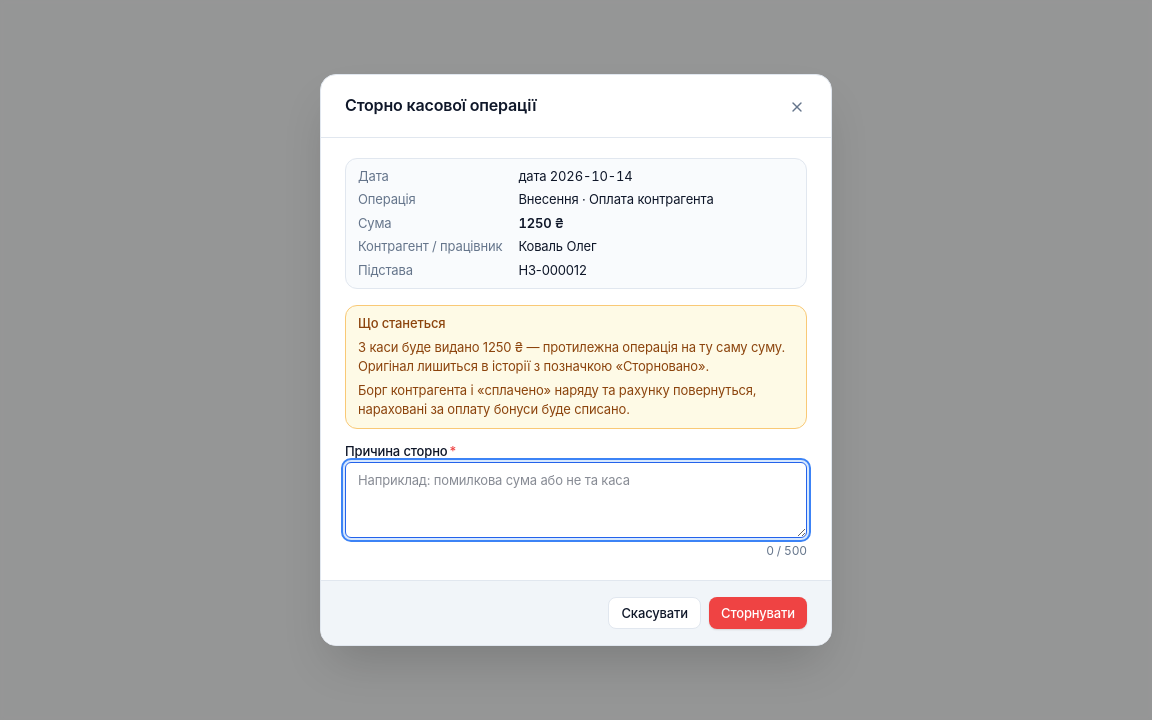
Test: CashReversalModal › причина › лічильник показує межу зі спільної схеми
Type "помилка" into the text box labelled "Причина сторно*" at (576, 500), box [345,462,807,538]
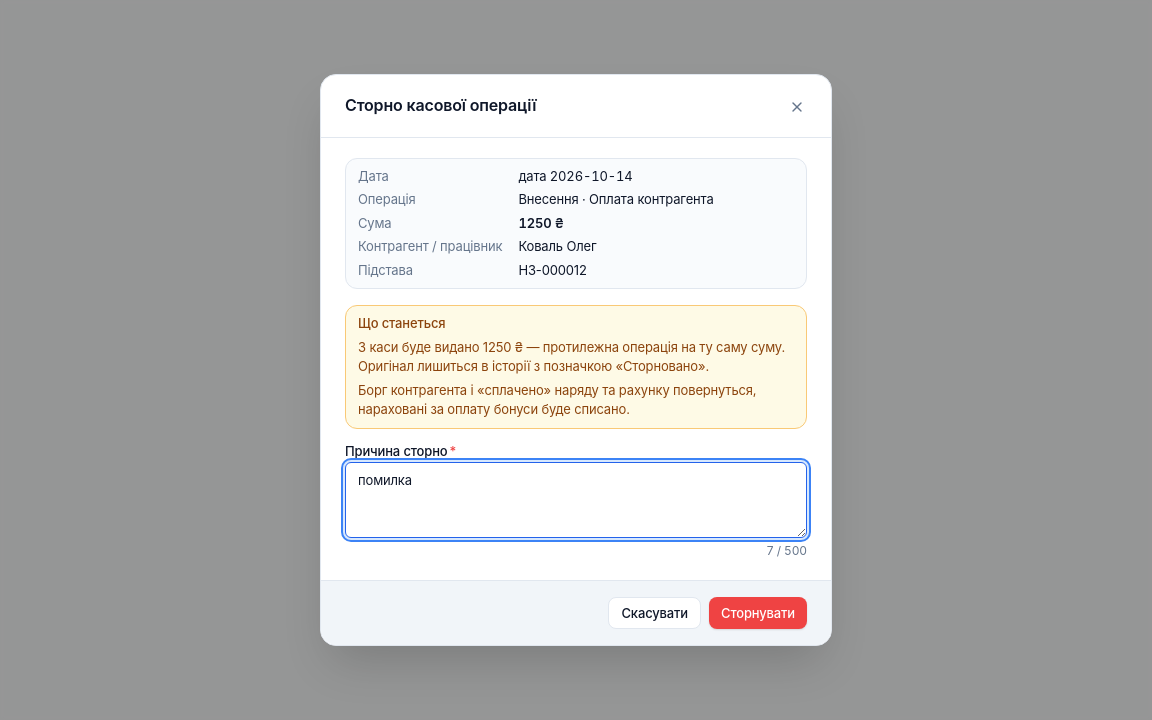
Check: the text "7 / 500" is shown, box [766,542,807,560]
